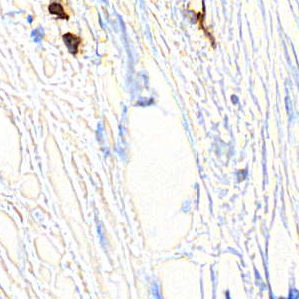Lymphocyte: (62, 32, 83, 55)
